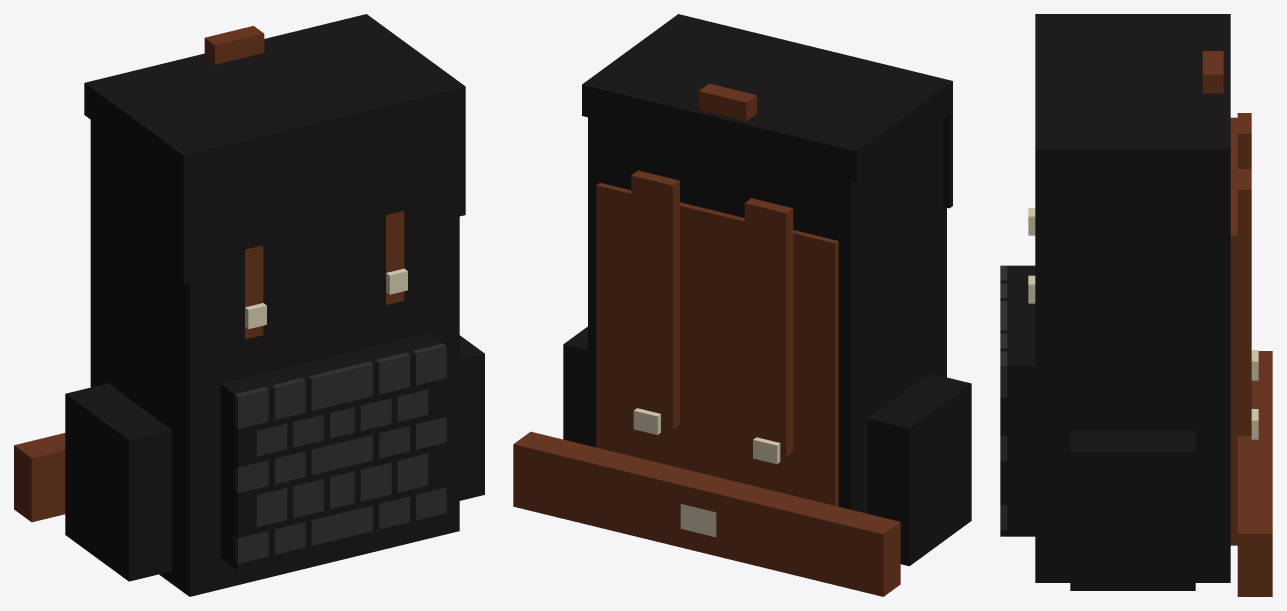
File: backpack_xl_black_dragon_hide.glb
The picture shows the model from 3 angles, left to right: view 1: azimuth 30°, elevation 25°; view 2: azimuth 150°, elevation 25°; view 3: azimuth 270°, elevation 25°; orthographic projection. The views are drawn at different scales.
Parts seen in each view (by area): view 1: backpack_xl_black_dragon_hide:compound; view 2: backpack_xl_black_dragon_hide:compound; view 3: backpack_xl_black_dragon_hide:compound.
Boxes of the visible parts, x1=… form: backpack_xl_black_dragon_hide:compound: x1=14, y1=14, x2=484, y2=596; backpack_xl_black_dragon_hide:compound: x1=513, y1=14, x2=971, y2=596; backpack_xl_black_dragon_hide:compound: x1=1000, y1=14, x2=1272, y2=596.
Size of the model in its own units: 0.62 by 0.72 by 0.39.
